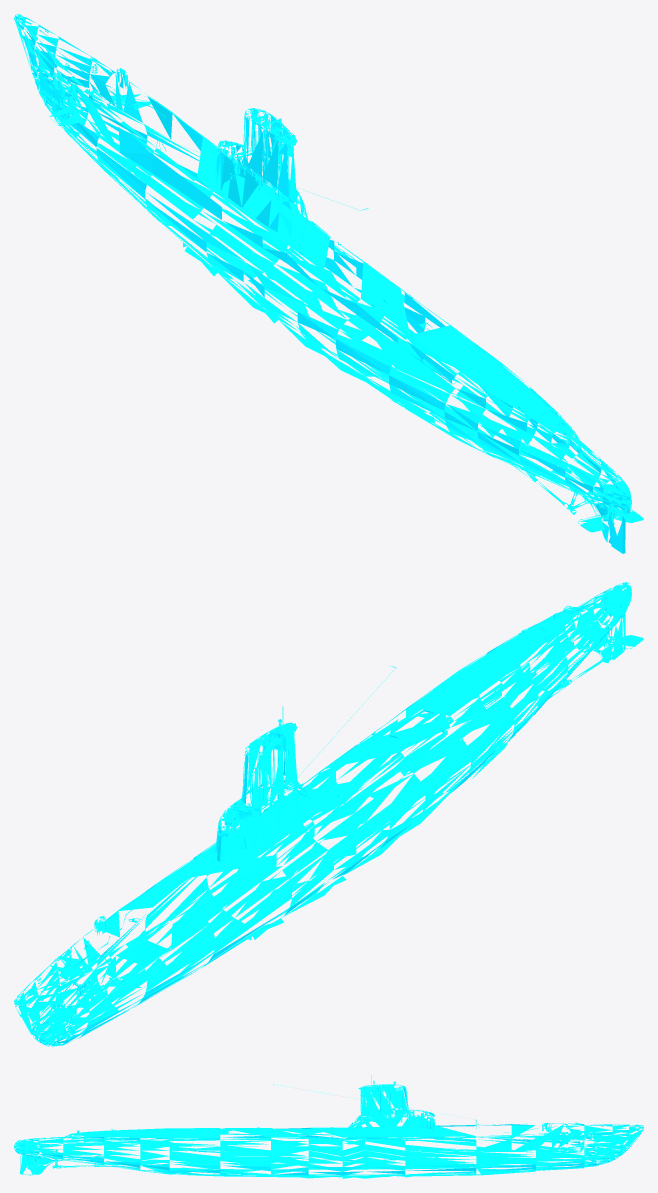
Rendered from PASS910.glb.
3 views of the same model, one above another, from view 1: azimuth 30°, elevation 25°; view 2: azimuth 150°, elevation 25°; view 3: azimuth 270°, elevation 25° (orthographic). The views are drawn at different scales.
Parts seen in each view (by area): view 1: hull; view 2: hull; view 3: hull.
Boxes of the visible parts, x1,y1,x2,y2 form: hull: (14,14,643,553); hull: (14,582,643,1046); hull: (14,1075,643,1178).
Size of the model in its own units: 0.577 by 1.11 by 6.33.
